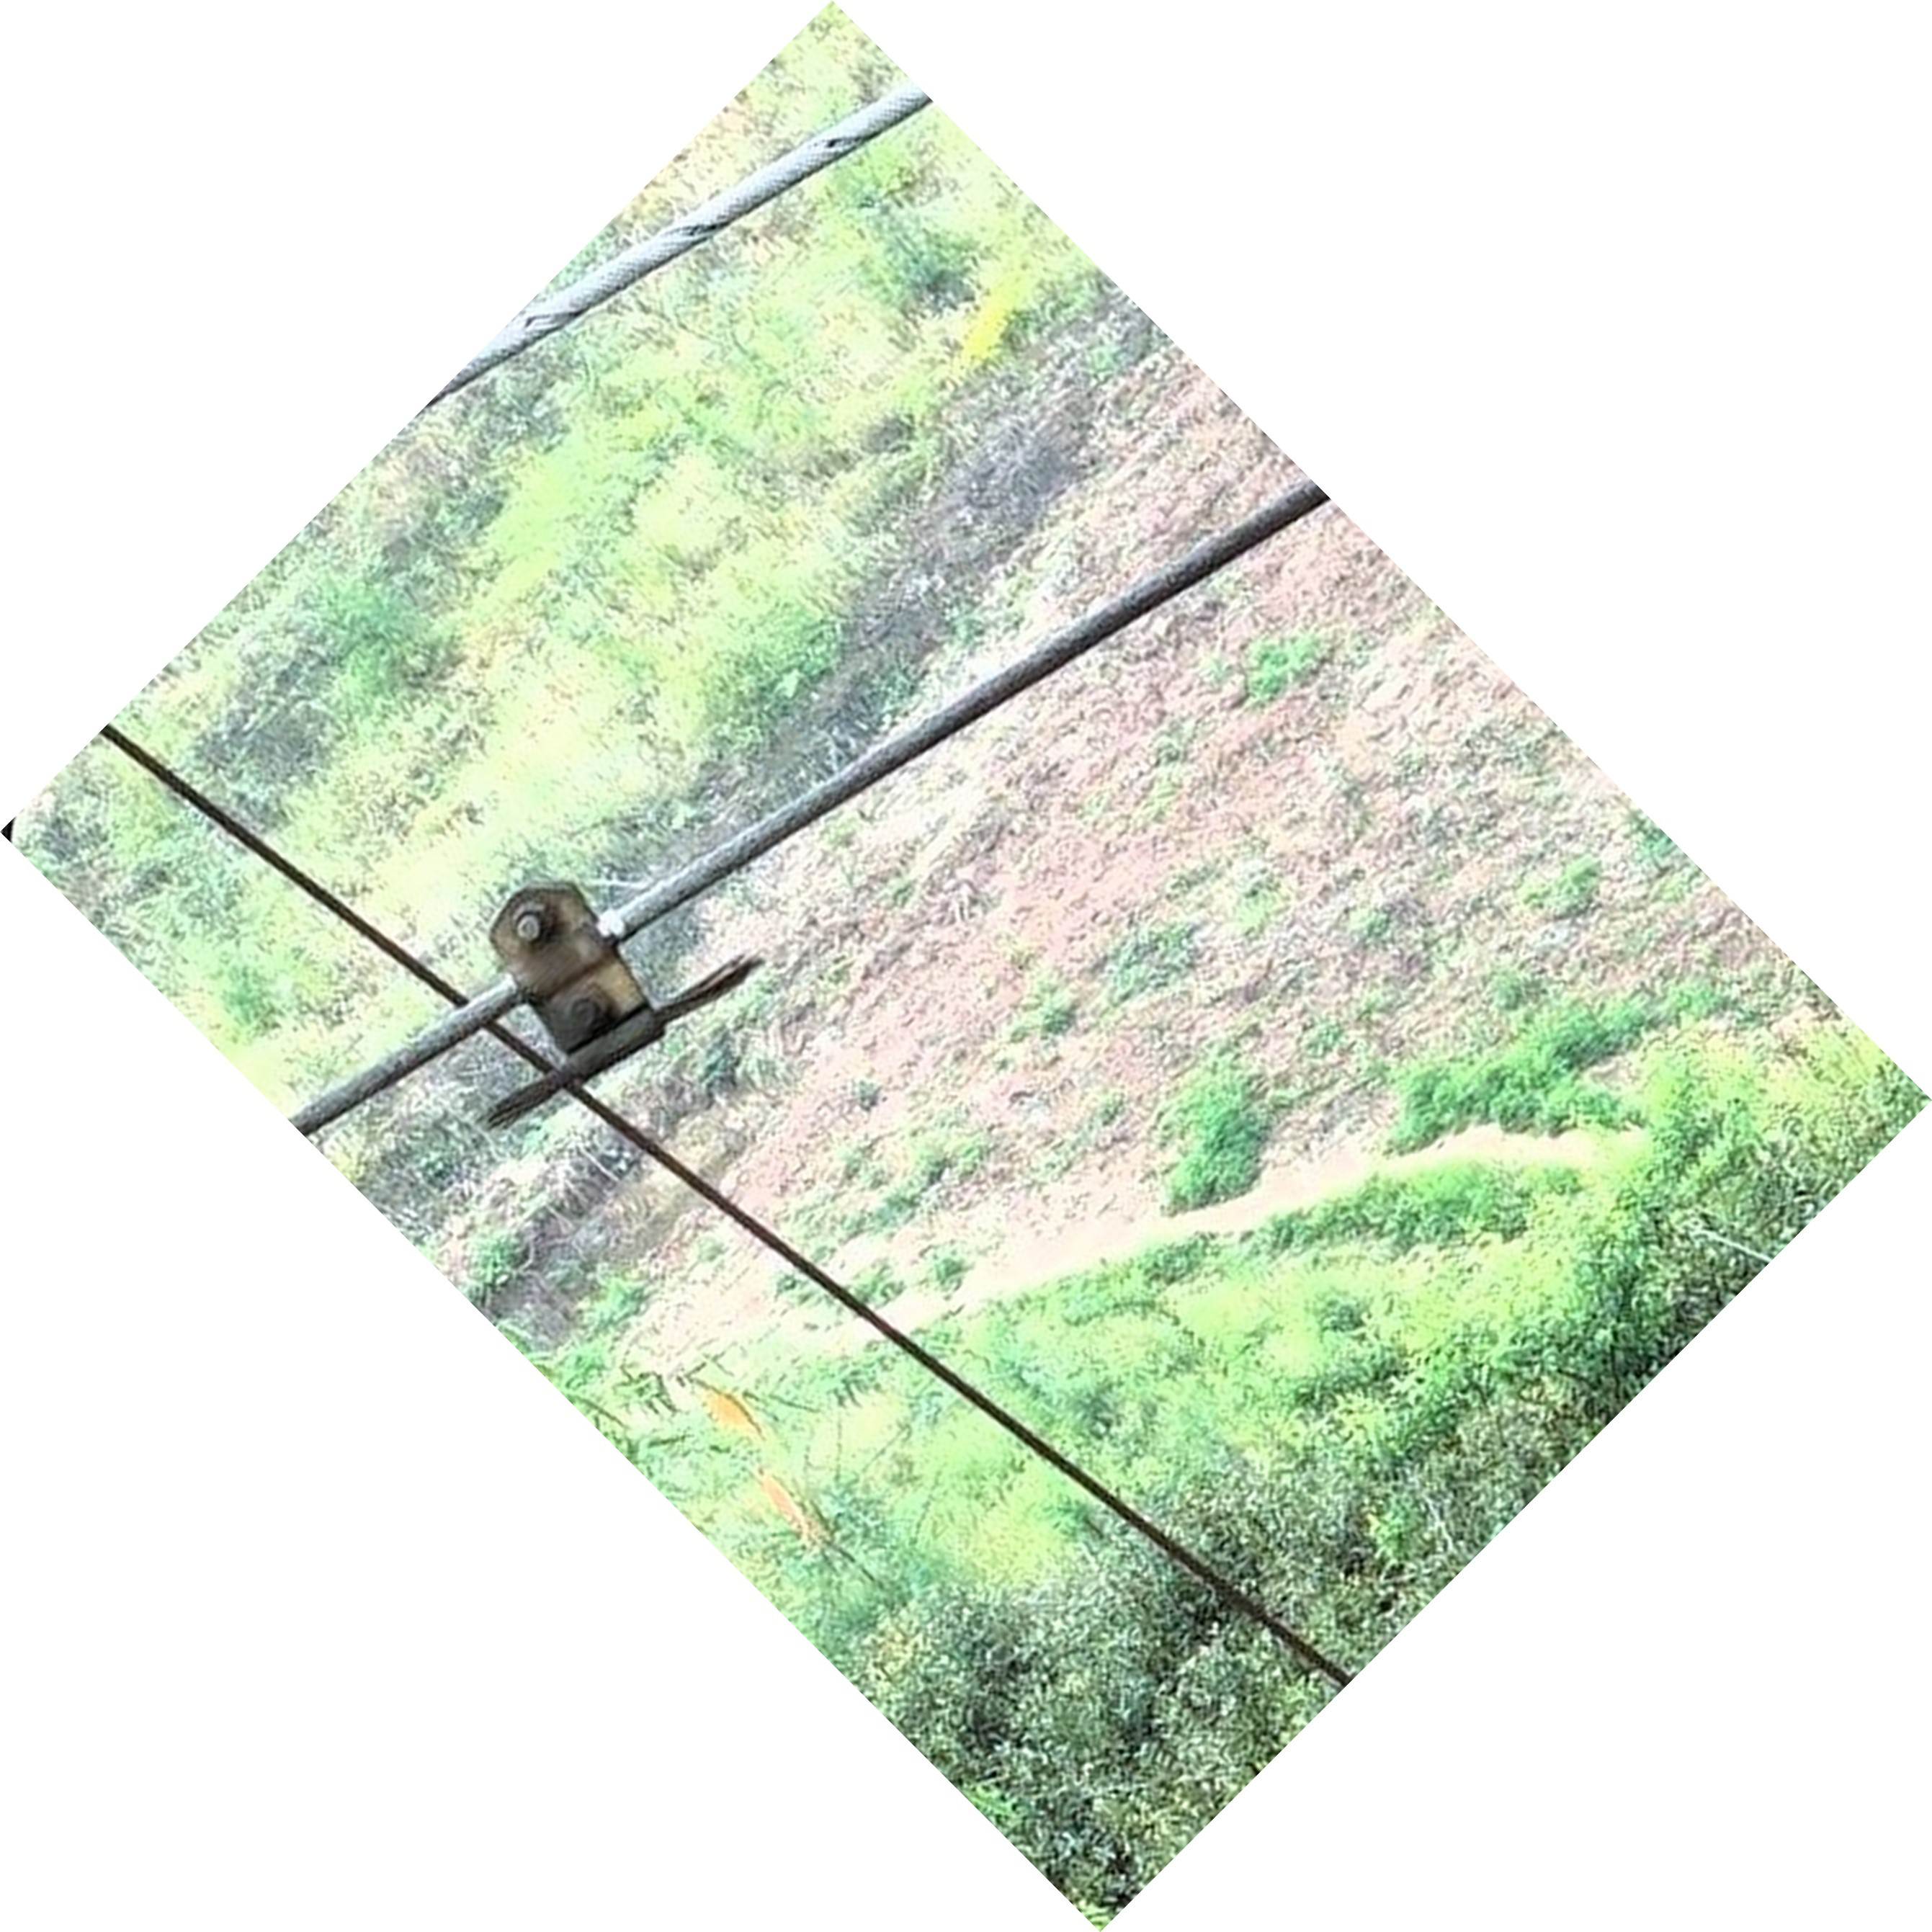Damage of shockproof hammer: (444, 833, 791, 1178)
